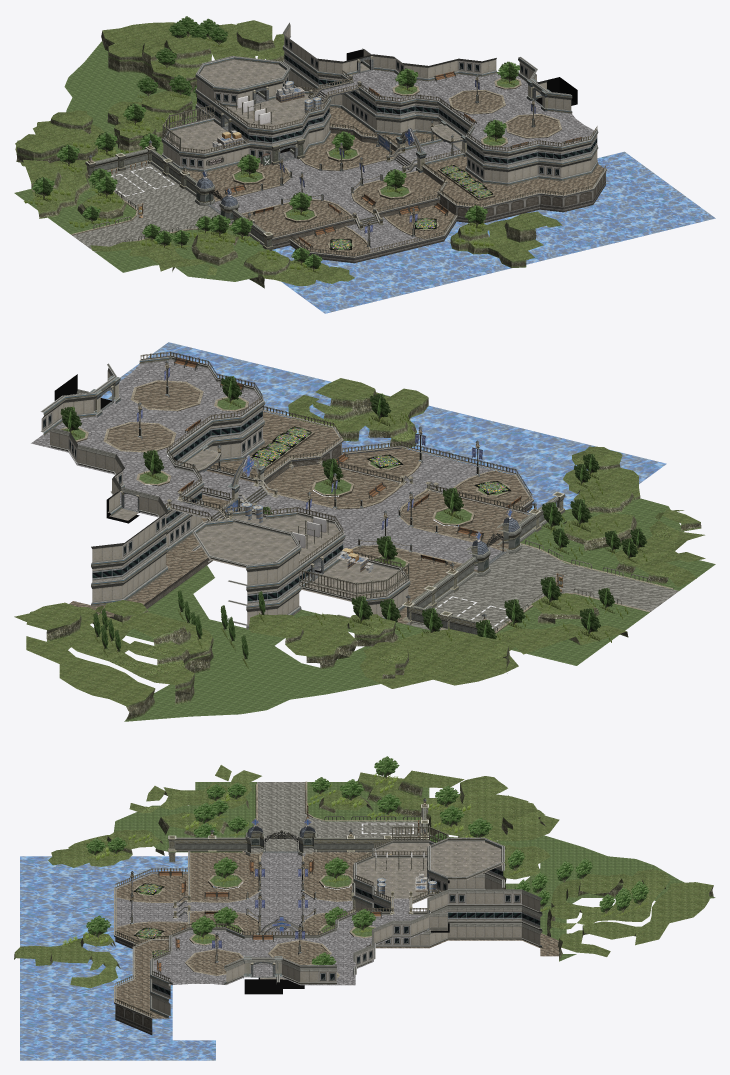
Rendered from Hospital.obj.
3 views of the same model, one above another, from view 1: azimuth 30°, elevation 25°; view 2: azimuth 150°, elevation 25°; view 3: azimuth 270°, elevation 25° (orthographic). The views are drawn at different scales.
Size of the model in its own units: 105 by 17.44 by 114.
Materials: 27 (27 with a texture image).
